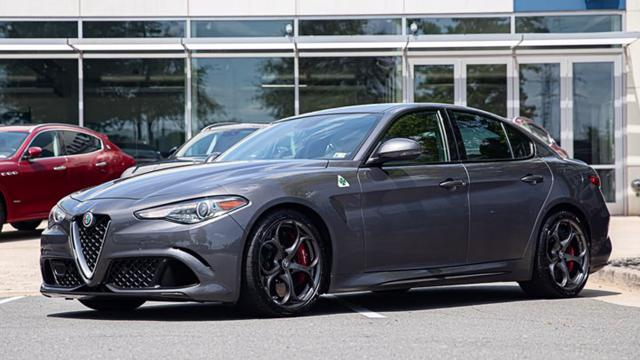alpha-romeo: (40, 102, 612, 316)
